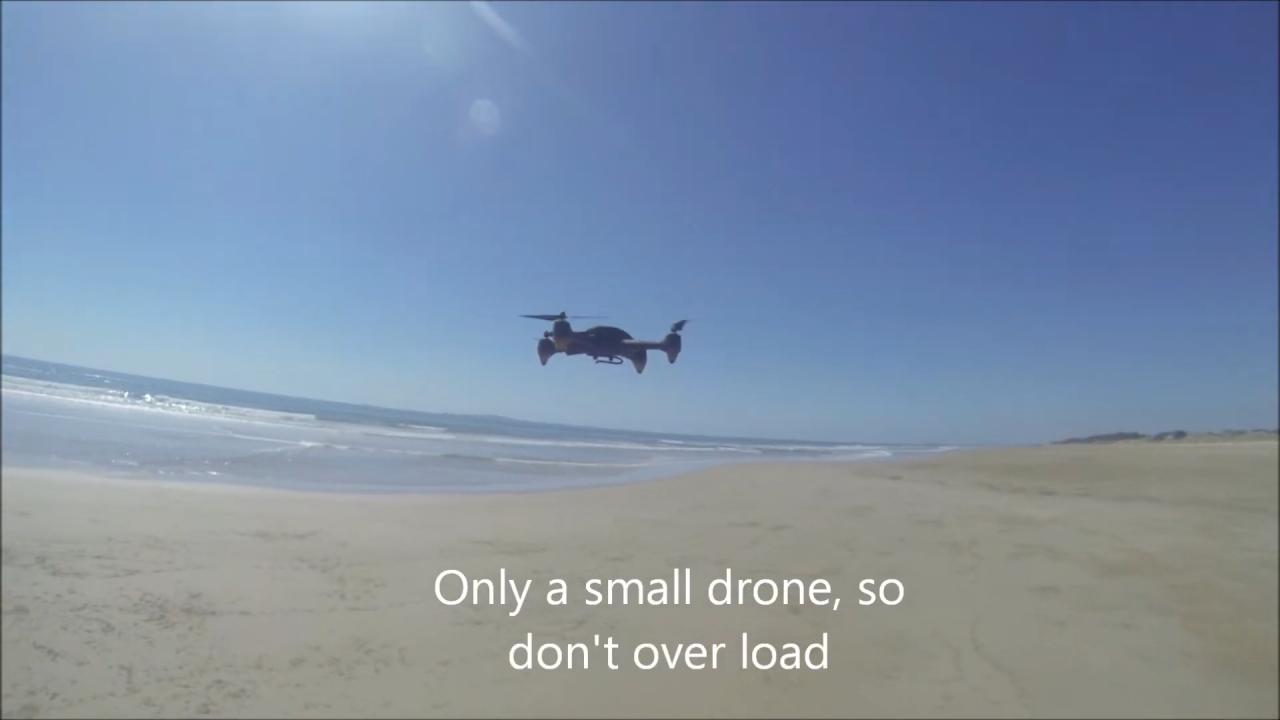Drone: (507, 294, 712, 381)
